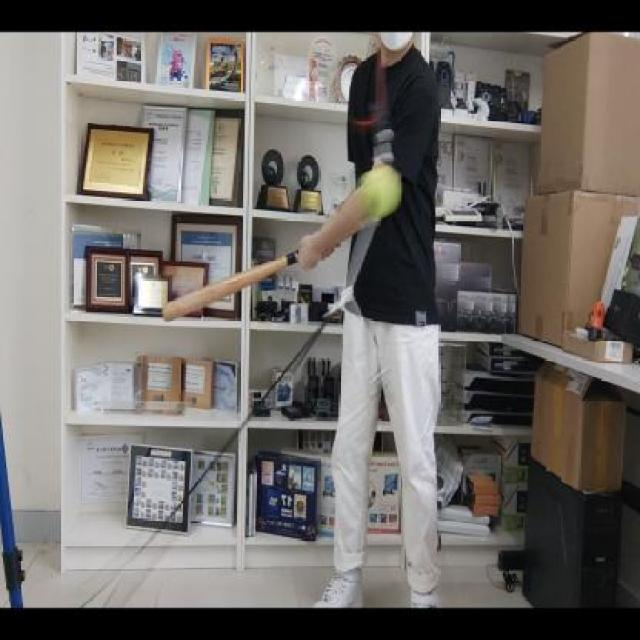baseball: (354, 164, 406, 222)
